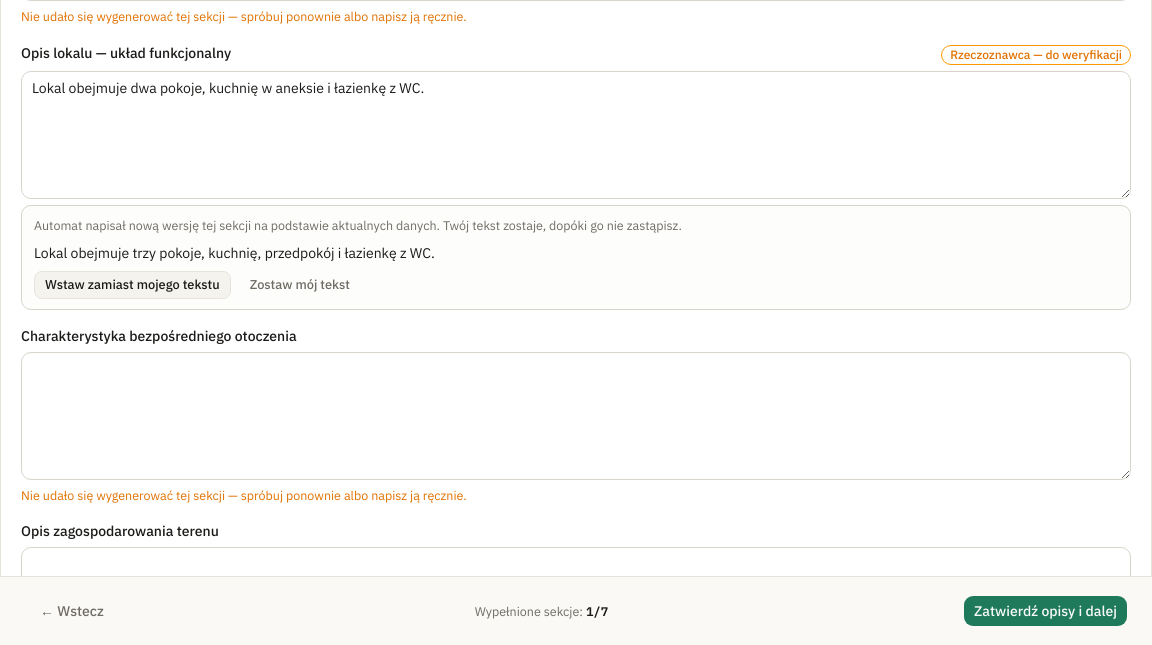
a proposal the merge refused to overwrite is offered, not binned › 'Wstaw' puts the offered text in the box and retires the offer
(page scrolled)
Click the button "Wstaw zamiast mojego tekstu": (132, 285) [34,271,231,299]
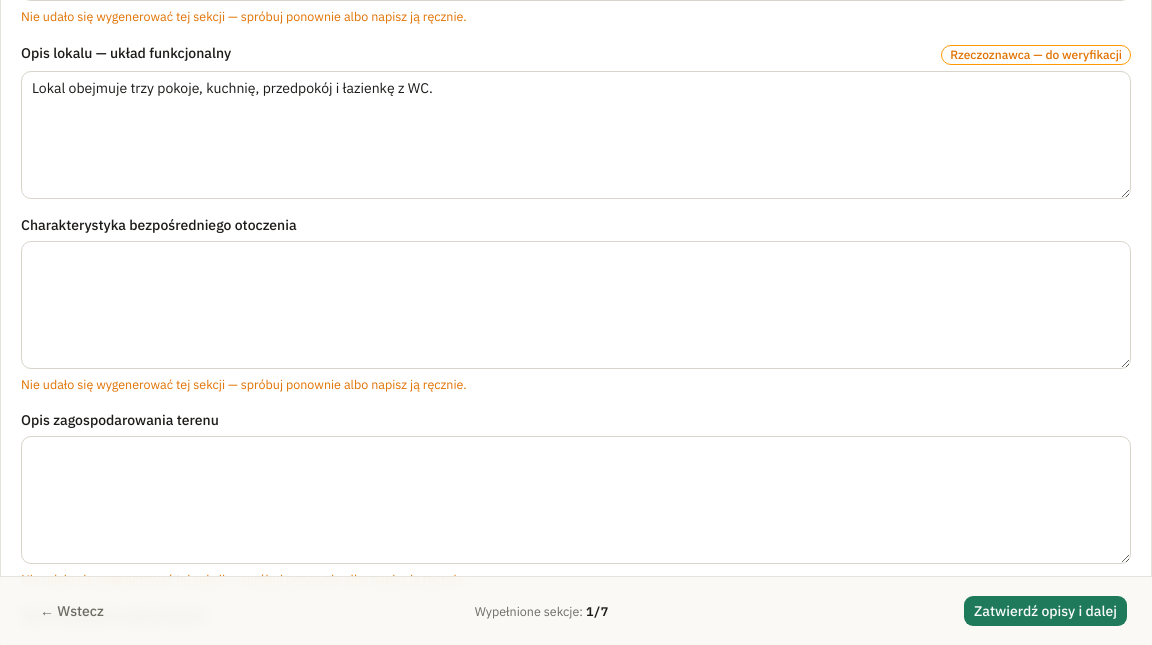
Expected: the text box labelled "Opis lokalu — układ funkcjonalny" holds "Lokal obejmuje trzy pokoje, kuchnię, przedpokój i łazienkę z WC.", [21,71,1131,199]
Expected: the element with test id "prose-offer-opis_lokalu" is gone
